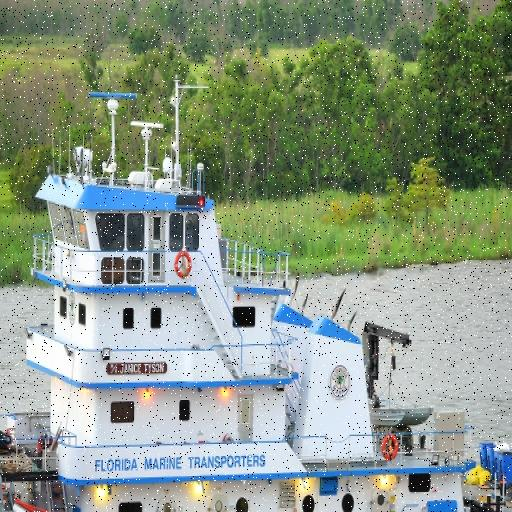tugboat: (1, 147, 512, 512)
